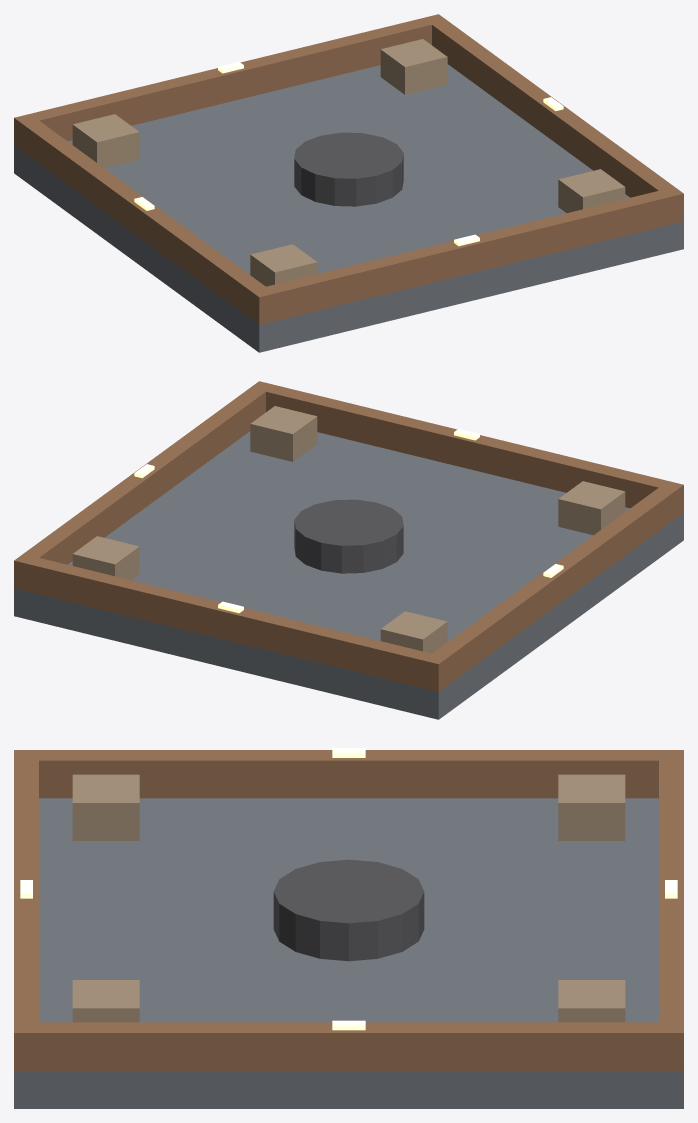
The picture shows the model from 3 angles, top to bottom: view 1: azimuth 30°, elevation 25°; view 2: azimuth 150°, elevation 25°; view 3: azimuth 270°, elevation 25°; orthographic projection. The views are drawn at different scales.
Visible parts, largest first — view 1: base; view 2: base; view 3: base.
Boxes of the visible parts, bbox=[...] form: base: bbox=[14, 14, 683, 352]; base: bbox=[14, 381, 683, 719]; base: bbox=[14, 748, 683, 1108].
Bounding box in the file's own units: 8 × 1.06 × 8.
